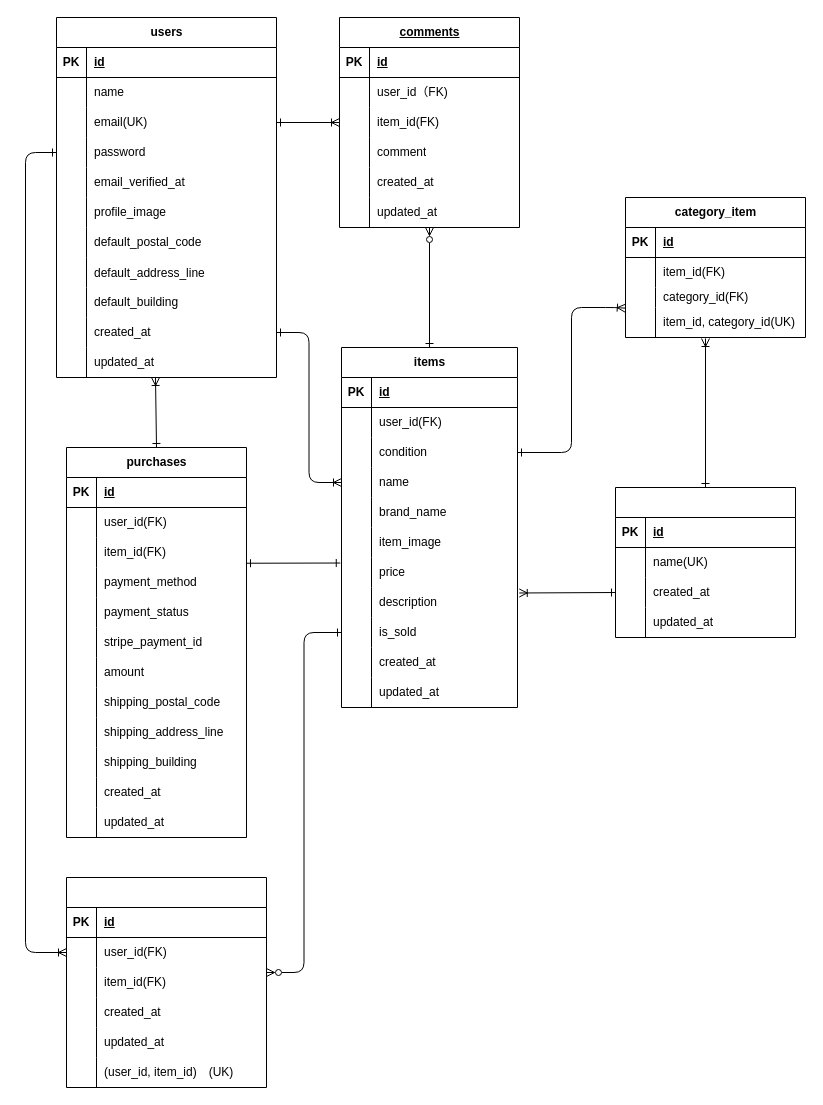
This 823x1105 diagram has some shape labels left out. The box of each missing label's shape, as (x1, y1, x2, y2) in pixels:
categories: (614, 486, 796, 638)
likes: (66, 876, 266, 1088)
